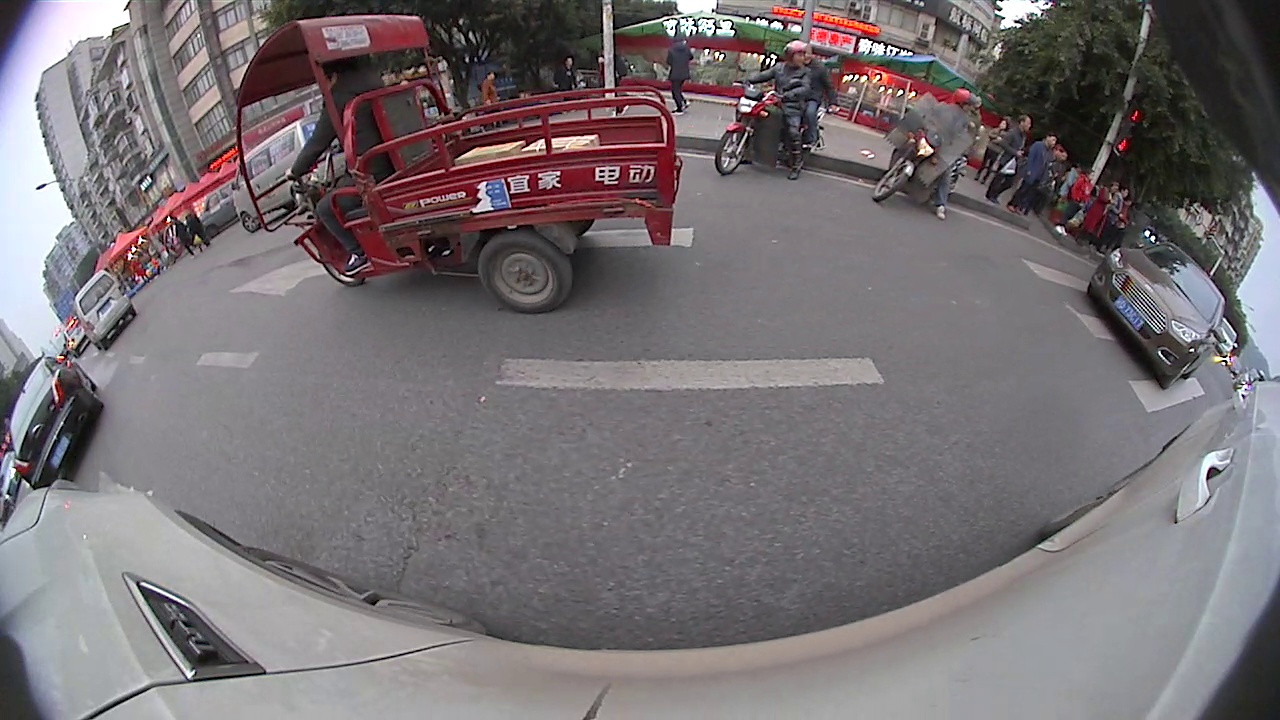car: (1084, 239, 1230, 390), (5, 354, 106, 496), (228, 109, 327, 235), (69, 271, 139, 347)
front: (314, 227, 369, 292), (712, 116, 754, 179), (239, 206, 262, 237)
rear: (471, 232, 574, 317)
rider: (223, 18, 685, 317), (711, 40, 833, 183), (871, 87, 986, 219)
